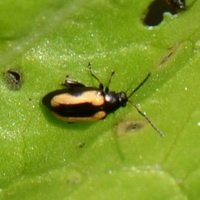insect: (42, 63, 162, 136)
